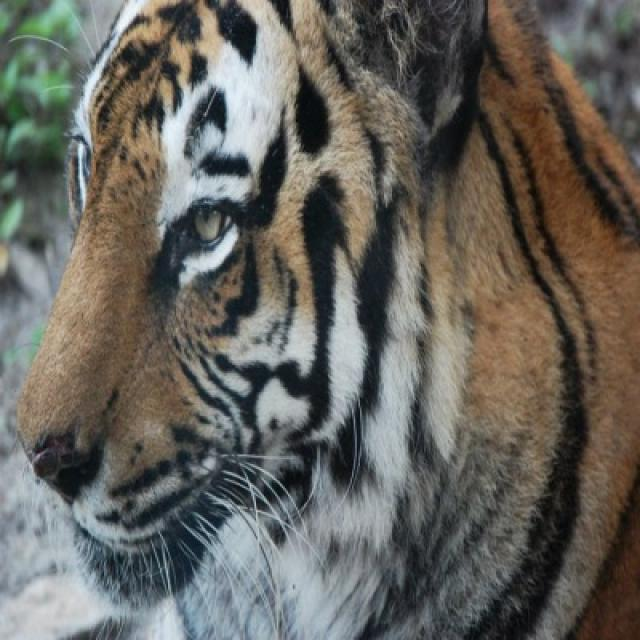Tiger: (7, 0, 638, 632)
